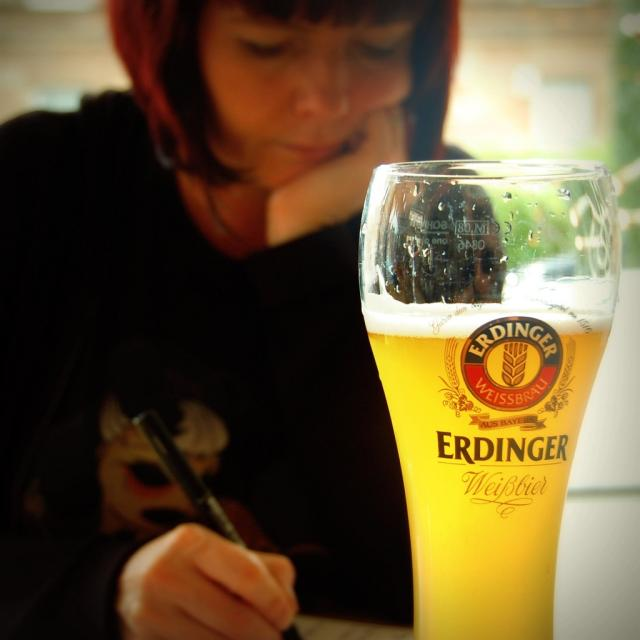erdinger: (427, 290, 596, 471)
